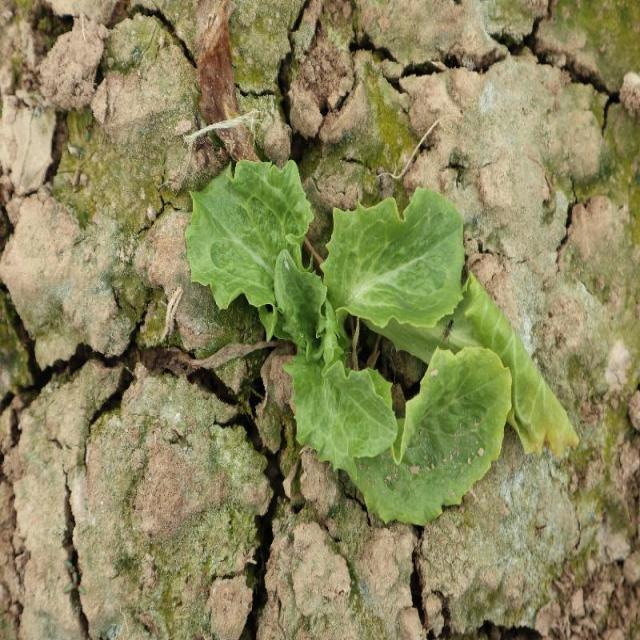crop: (185, 154, 515, 528)
